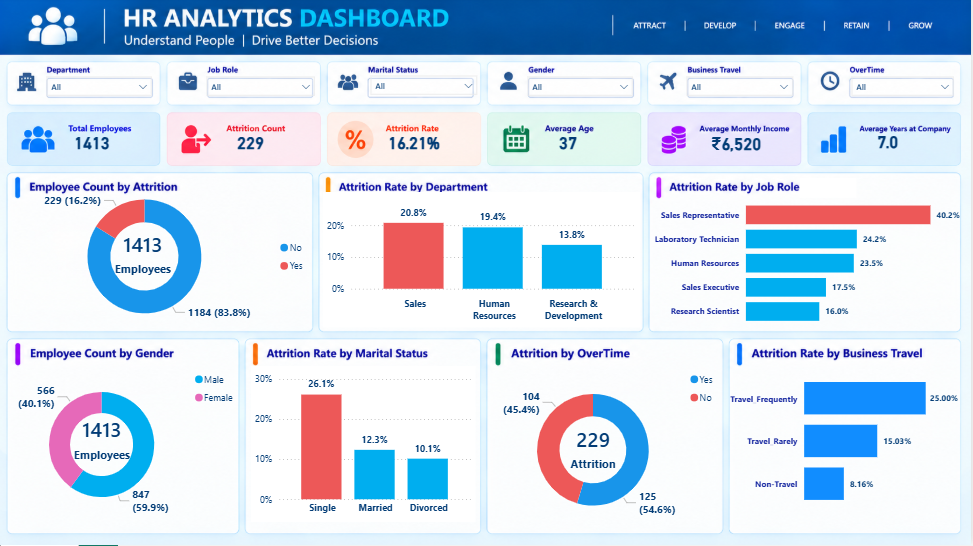

What the dashboard file says about the page in this screenshot:
{"tool":"powerbi","page":{"name":"Page 2","canvas":[1280,720],"ordinal":0},"visuals":[{"type":"slicer","fields":{"Values":["HR_Analytics.Department"]},"box":[55.8,94.4,158.2,53.2],"z":0},{"type":"slicer","fields":{"Values":["HR_Analytics.Job_Role"]},"box":[265.8,94.4,162.2,57.2],"z":1000},{"type":"slicer","fields":{"Values":["HR_Analytics.Gender"]},"box":[687.2,94.4,158.2,57.2],"z":2000},{"type":"slicer","fields":{"Values":["HR_Analytics.Business_Travel"]},"box":[895.9,94.4,159.5,53.2],"z":3000},{"type":"slicer","fields":{"Values":["HR_Analytics.Marital_Status"]},"box":[480.4,93.9,160.1,54.2],"z":4000},{"type":"slicer","fields":{"Values":["HR_Analytics.OverTime"]},"box":[1112.5,94.4,154.2,57.2],"z":5000},{"type":"card","fields":{"Values":["HR_Analytics.Total Employees"]},"box":[85.1,164.8,78.4,55.8],"z":6000},{"type":"card","fields":{"Values":["HR_Analytics.Attrition Count"]},"box":[277.8,170.1,111.7,45.2],"z":7000},{"type":"card","fields":{"Values":["HR_Analytics.Attrition Rate"]},"box":[495.8,160.8,105,63.8],"z":8000},{"type":"card","fields":{"Values":["HR_Analytics.Average Age"]},"box":[696.5,164.8,107.7,55.8],"z":9000},{"type":"card","fields":{"Values":["HR_Analytics.Avg Monthly Income"]},"box":[895.9,162.2,150.2,62.5],"z":10000},{"type":"card","fields":{"Values":["HR_Analytics.Average Years at Company"]},"box":[1092.6,164.8,154.2,51.8],"z":11000},{"type":"donutChart","fields":{"Category":["HR_Analytics.Attrition"],"Y":["CountNonNull(HR_Analytics.Emp_ID)"]},"box":[10.6,237.9,405.4,206],"z":12000},{"type":"card","fields":{"Values":["HR_Analytics.Total Employees"]},"box":[146.2,259.2,91.7,152.9],"z":13000},{"type":"columnChart","fields":{"Category":["HR_Analytics.Department"],"Y":["HR_Analytics.Attrition Rate"]},"box":[428,256.5,417.4,178.1],"z":14000},{"type":"clusteredBarChart","fields":{"Category":["HR_Analytics.Job_Role"],"Y":["HR_Analytics.Attrition Rate"]},"box":[858.6,248.6,421.4,195.7],"z":15000},{"type":"shape","box":[1055.7,238.1,74.3,26.2],"z":16000},{"type":"donutChart","fields":{"Category":["HR_Analytics.Gender"],"Y":["CountNonNull(HR_Analytics.Emp_ID)"]},"box":[11,484.5,313.8,206.5],"z":17000},{"type":"card","fields":{"Values":["HR_Analytics.Total Employees"]},"box":[95,499.6,86.7,159.7],"z":18000},{"type":"columnChart","fields":{"Category":["HR_Analytics.Marital_Status"],"Y":["HR_Analytics.Attrition Rate"]},"box":[333.1,484.5,294.5,205.1],"z":19000},{"type":"donutChart","fields":{"Category":["HR_Analytics.OverTime"],"Y":["HR_Analytics.Attrition Count"]},"box":[651,484.5,304.2,220.2],"z":20000},{"type":"card","fields":{"Values":["HR_Analytics.Attrition Count"]},"box":[721.2,524.4,123.9,134.9],"z":21000},{"type":"clusteredBarChart","fields":{"Category":["HR_Analytics.Business_Travel"],"Y":["HR_Analytics.Attrition Rate"]},"box":[956.6,470.7,311.1,220.2],"z":21001}]}

Visuals, with their boxes in screenshot pixels (x1, y1, x2, y2), scaled from the page's 1280x720 canvas onto the 973x546 screenshot:
slicer - HR_Analytics.Department: detection(42, 72, 163, 112)
slicer - HR_Analytics.Job_Role: detection(202, 72, 325, 115)
slicer - HR_Analytics.Gender: detection(522, 72, 643, 115)
slicer - HR_Analytics.Business_Travel: detection(681, 72, 802, 112)
slicer - HR_Analytics.Marital_Status: detection(365, 71, 487, 112)
slicer - HR_Analytics.OverTime: detection(846, 72, 963, 115)
card - HR_Analytics.Total Employees: detection(65, 125, 124, 167)
card - HR_Analytics.Attrition Count: detection(211, 129, 296, 163)
card - HR_Analytics.Attrition Rate: detection(377, 122, 457, 170)
card - HR_Analytics.Average Age: detection(529, 125, 611, 167)
card - HR_Analytics.Avg Monthly Income: detection(681, 123, 795, 170)
card - HR_Analytics.Average Years at Company: detection(831, 125, 948, 164)
donutChart - HR_Analytics.Attrition x CountNonNull(HR_Analytics.Emp_ID): detection(8, 180, 316, 337)
card - HR_Analytics.Total Employees: detection(111, 197, 181, 313)
columnChart - HR_Analytics.Department x HR_Analytics.Attrition Rate: detection(325, 195, 643, 330)
clusteredBarChart - HR_Analytics.Job_Role x HR_Analytics.Attrition Rate: detection(653, 189, 972, 337)
shape: detection(802, 181, 859, 200)
donutChart - HR_Analytics.Gender x CountNonNull(HR_Analytics.Emp_ID): detection(8, 367, 247, 524)
card - HR_Analytics.Total Employees: detection(72, 379, 138, 500)
columnChart - HR_Analytics.Marital_Status x HR_Analytics.Attrition Rate: detection(253, 367, 477, 523)
donutChart - HR_Analytics.OverTime x HR_Analytics.Attrition Count: detection(495, 367, 726, 534)
card - HR_Analytics.Attrition Count: detection(548, 398, 642, 500)
clusteredBarChart - HR_Analytics.Business_Travel x HR_Analytics.Attrition Rate: detection(727, 357, 964, 524)
